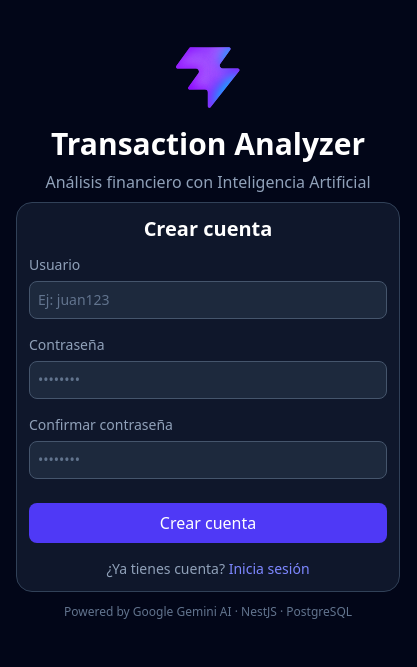
Test case: RegisterPage - validación de formulario › shows error when username is empty
Click the button "Crear cuenta": x=208, y=523 29,503 -> 387,543
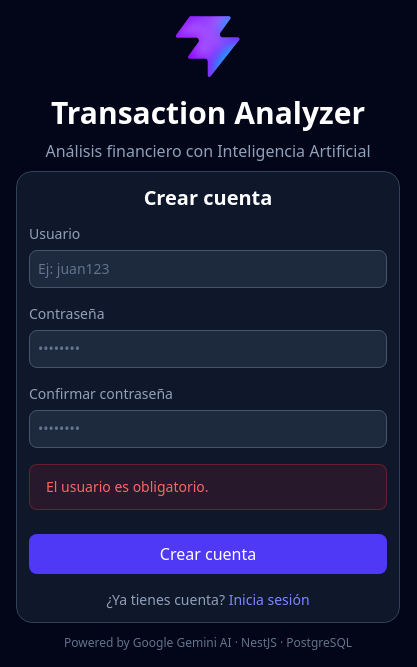
Now the text "El usuario es obligatorio." is shown, box 29,464 -> 387,510
